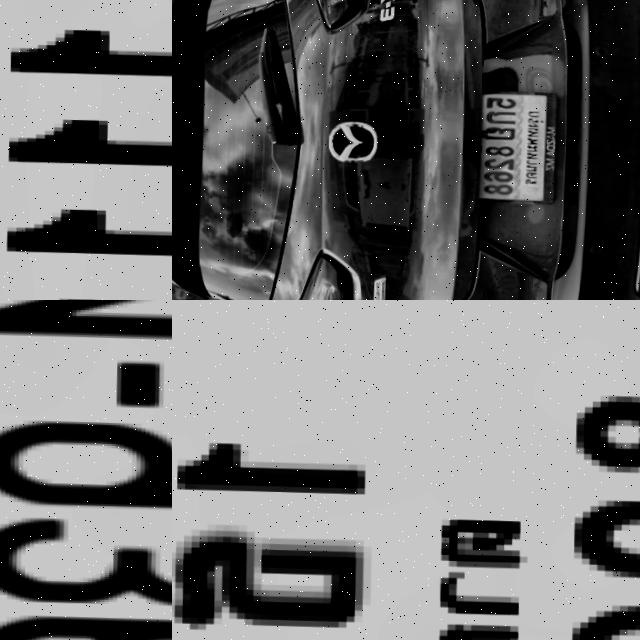license-plate: (172, 300, 640, 640), (0, 300, 172, 640), (0, 0, 172, 300), (467, 86, 559, 208)
